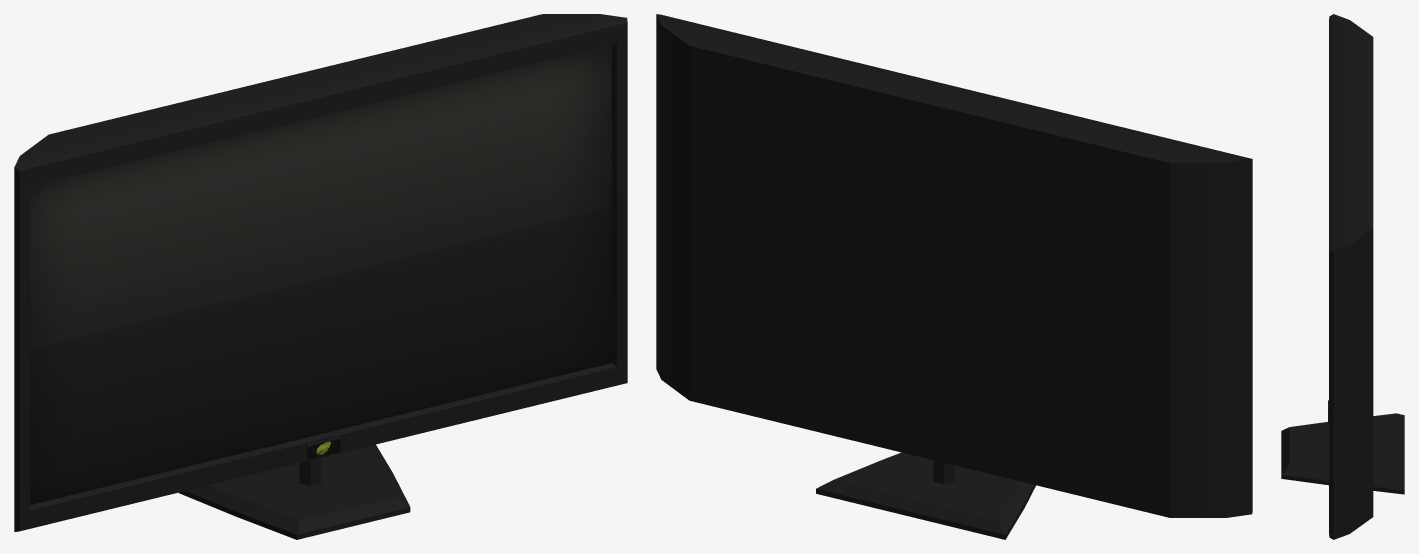
The model's file is Flat_Screen_TV.FBX.
The picture shows the model from 3 angles, left to right: view 1: azimuth 30°, elevation 25°; view 2: azimuth 150°, elevation 25°; view 3: azimuth 270°, elevation 25°; orthographic projection. The views are drawn at different scales.
Parts seen in each view (by area): view 1: Flat_Screen_TV; view 2: Flat_Screen_TV; view 3: Flat_Screen_TV.
Part boxes in pixels (x1,y1,x2,y2): Flat_Screen_TV: [14, 14, 627, 539]; Flat_Screen_TV: [656, 14, 1252, 539]; Flat_Screen_TV: [1281, 14, 1404, 539].
Bounding box in the file's own units: 230 × 147 × 50.55.
